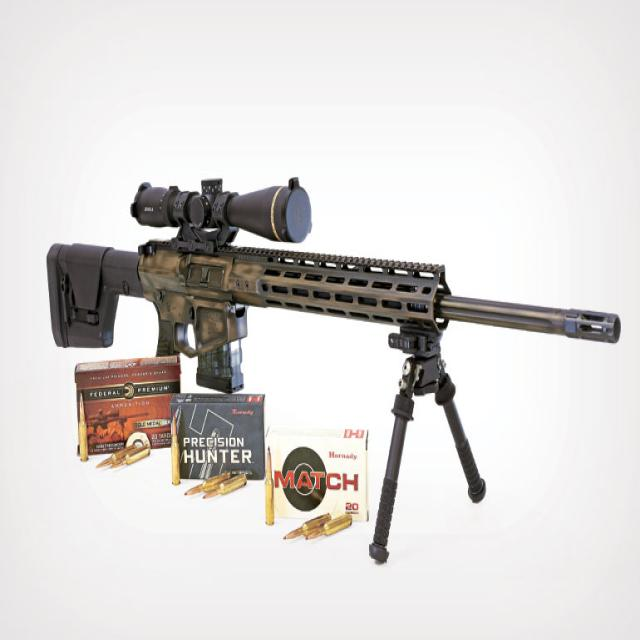Rifle: (46, 178, 623, 394)
